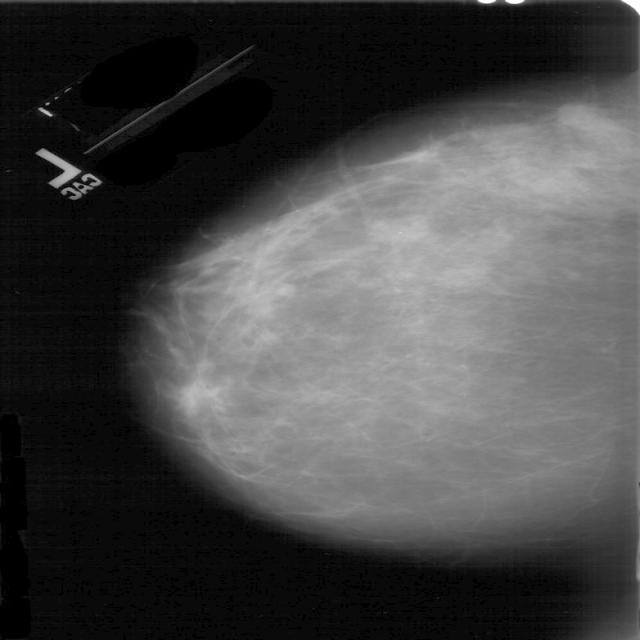tumour: (550, 101, 613, 132)
